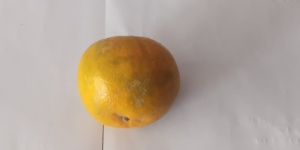BAD: (76, 34, 180, 133)
